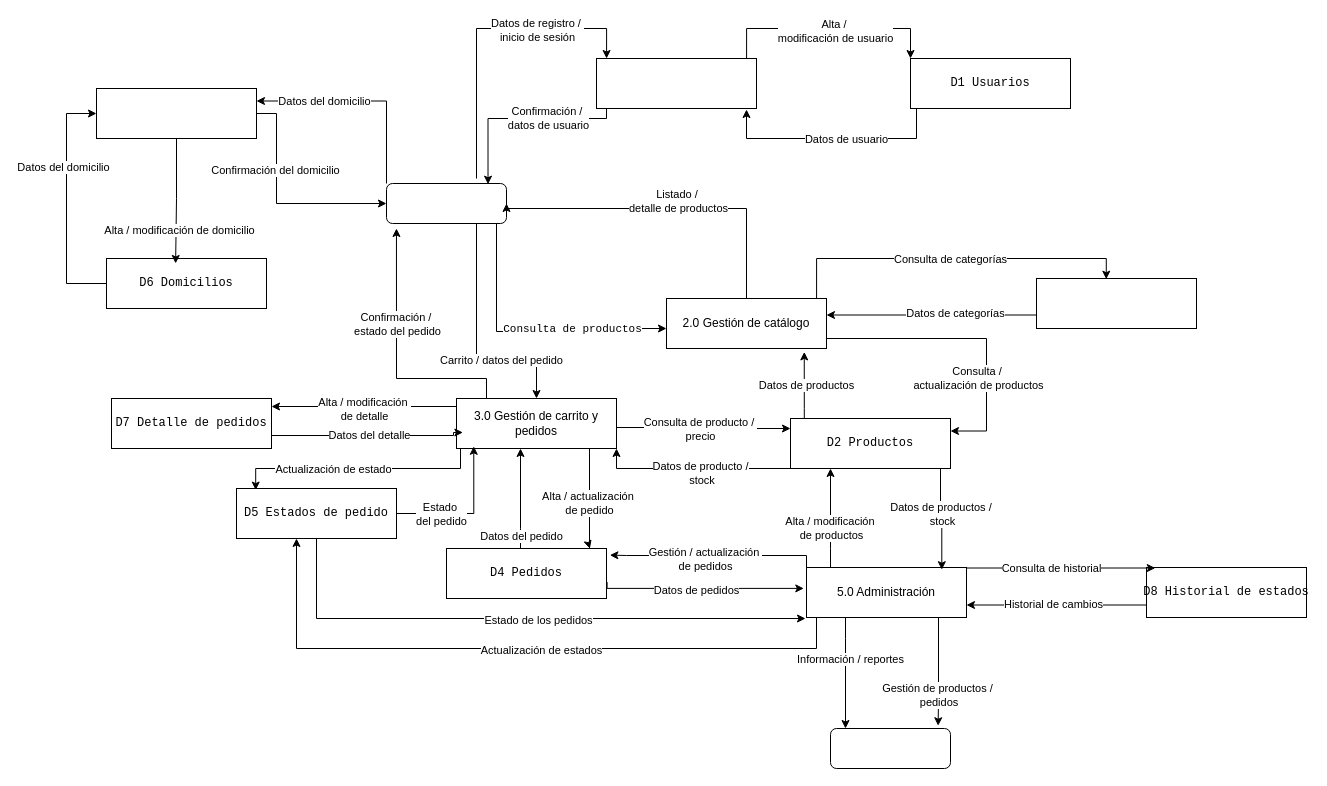
Image size: 1327x786. Some labels were removed from this diagram. Here are the shapes that lost their labels. From the top down, the centre of each, then its label:
(x=676, y=83): 1.0 Gestión de usuarios
(x=176, y=113): 4.0 Gestión de domicilios
(x=446, y=203): CLIENTE
(x=1116, y=303): D3 Categorías
(x=890, y=748): ADMINISTRADOR
